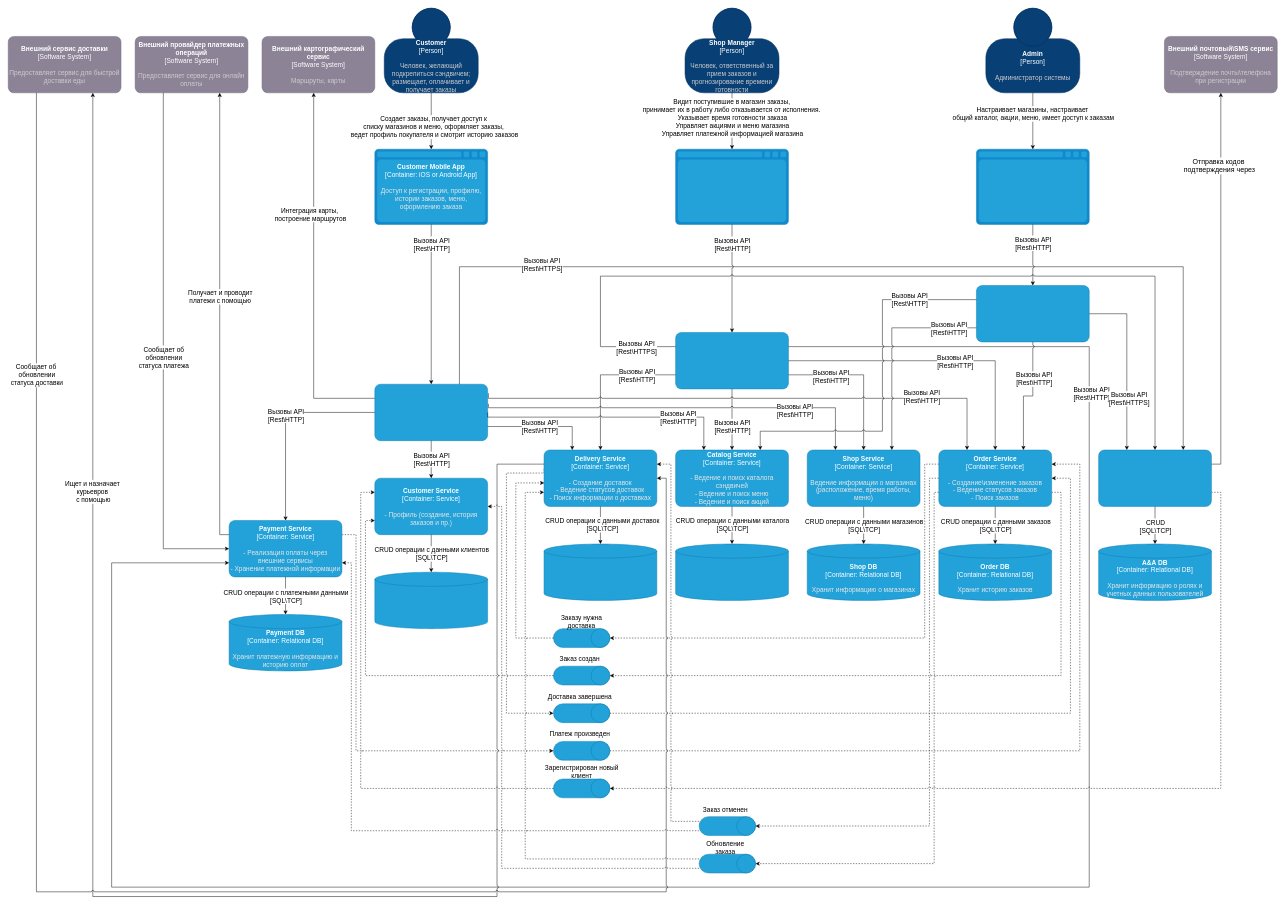
The diagram is 1285 pixels wide and 909 high, and some of its shapes have lost their labels. The shapes that lost their labels are listed below. From the top down, each one's centre as x and y in pixels, then its label:
the point at 731,186: Shop App [Container: Application] Приложение для работы магазина
the point at 1032,186: Admin Portal [Container: Application] Приложение для админа
the point at 1032,313: Admin API Gateway [Container: Service] Точка доступа для админа
the point at 731,360: Shop API Gateway [Container: Service] Точка доступа для менеджеров магазинов
the point at 431,412: Customer API Gateway [Container: Service] Точка доступа для клиентов
the point at 1154,478: Auth & Access Service [Container: Service] Аутентификация и ролевая модель
the point at 600,572: Delivery DB [Container: Relational DB] Хранит сведения о курьерах и доставках
the point at 731,572: Catalog DB [Container: Relational DB] Хранит историю заказов
the point at 431,600: Customer DB [Container: Relational DB] Хранит профили клиентов, историю заказов
